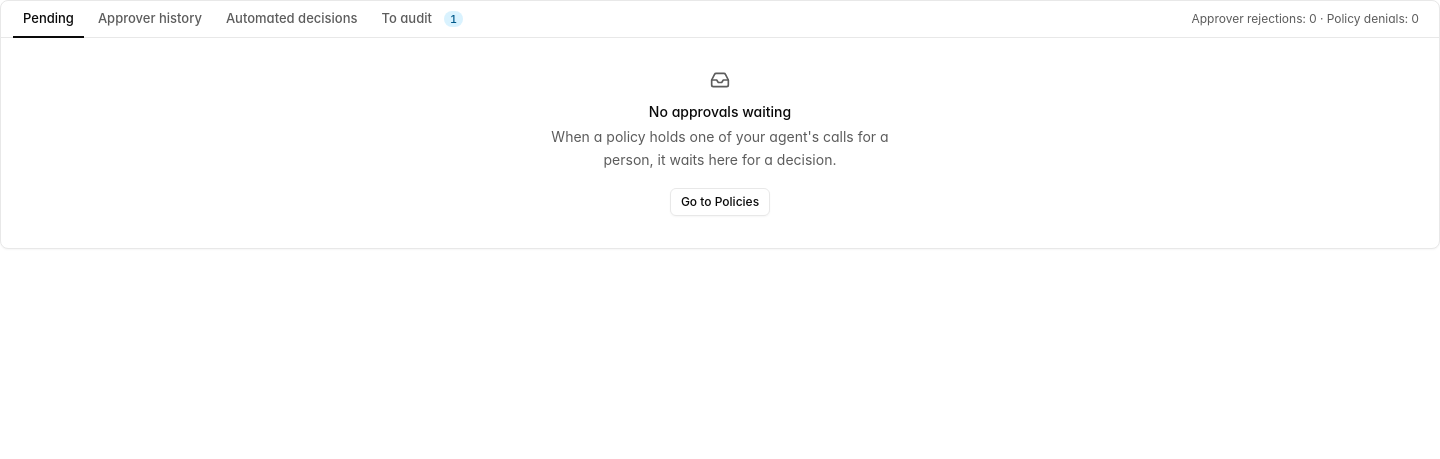
Test: ApprovalInbox views and counts › lists assistant decisions waiting for a person's check
What coordinates should you click on to do the following:
click the tab "To audit 1"
I would click on:
 (422, 19)
Its box is [372,5,473,33].
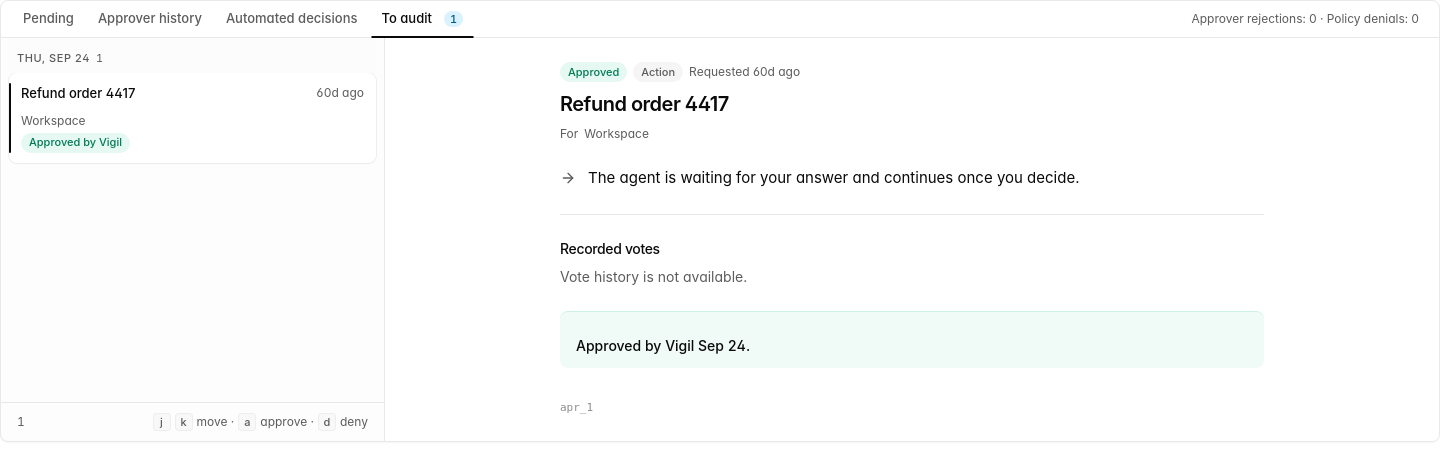
Check: the text "Refund order 4417" is shown, box [21,82,135,102]
